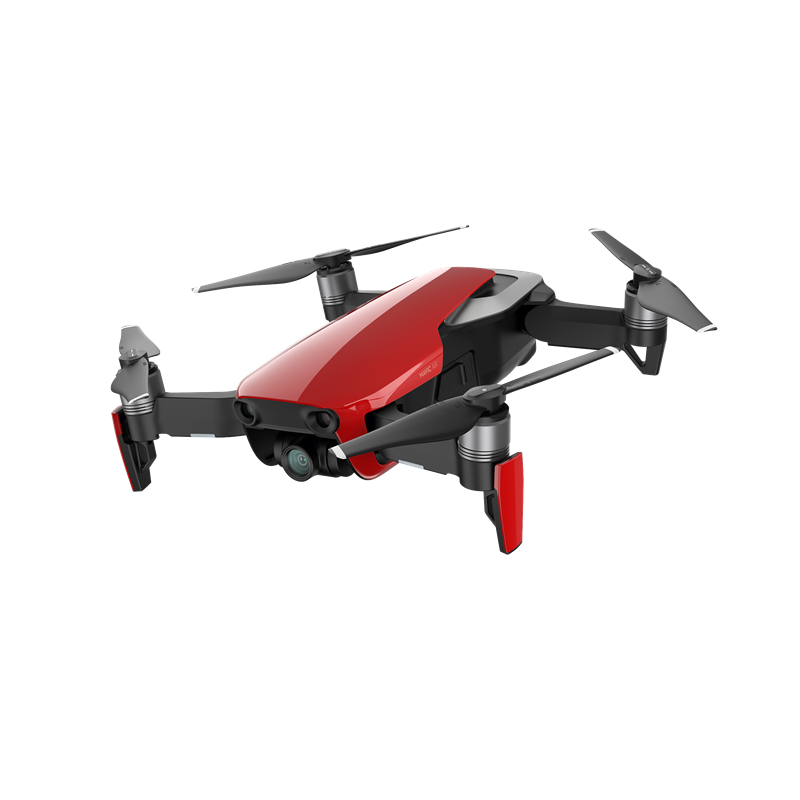drone: (99, 215, 736, 562)
